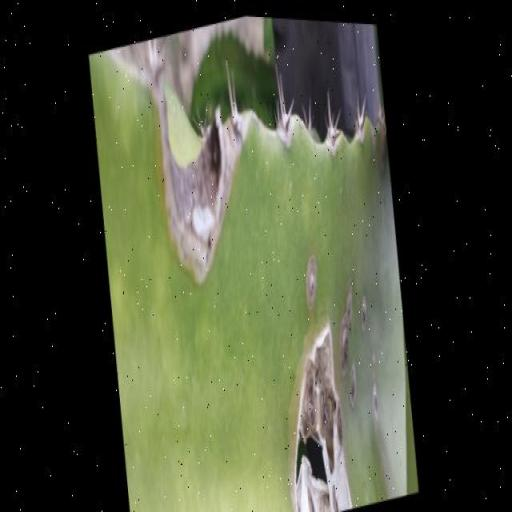stemcanker: (301, 250, 321, 316), (356, 295, 373, 334)
